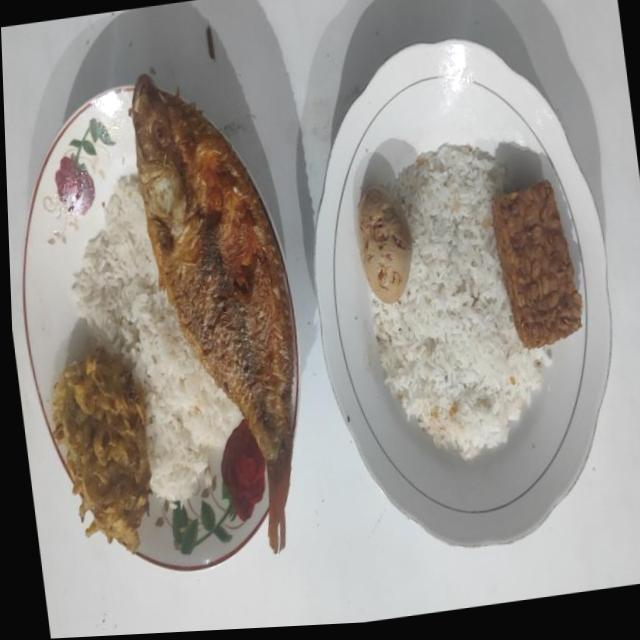ikan_mujair: (130, 74, 295, 552)
nasi_putih: (72, 173, 242, 501), (372, 144, 547, 459)
tempe_goreng: (492, 180, 582, 348)
